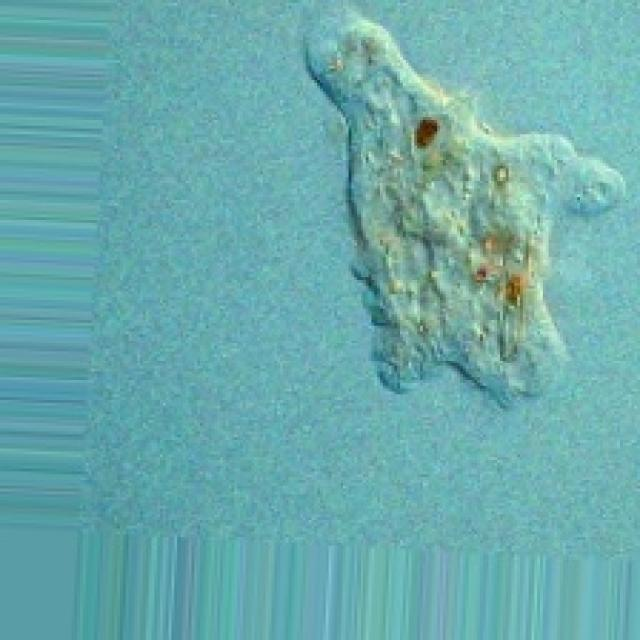Amoeba: (300, 11, 626, 408)
